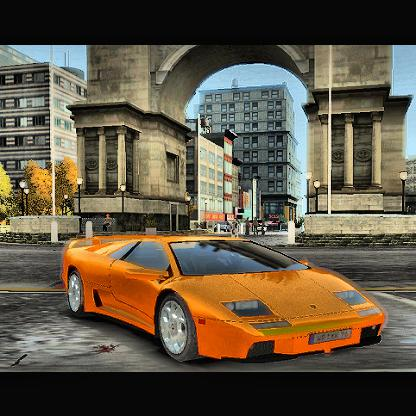Lamborghini Diablo Coupe 2001: (65, 238, 387, 362)
